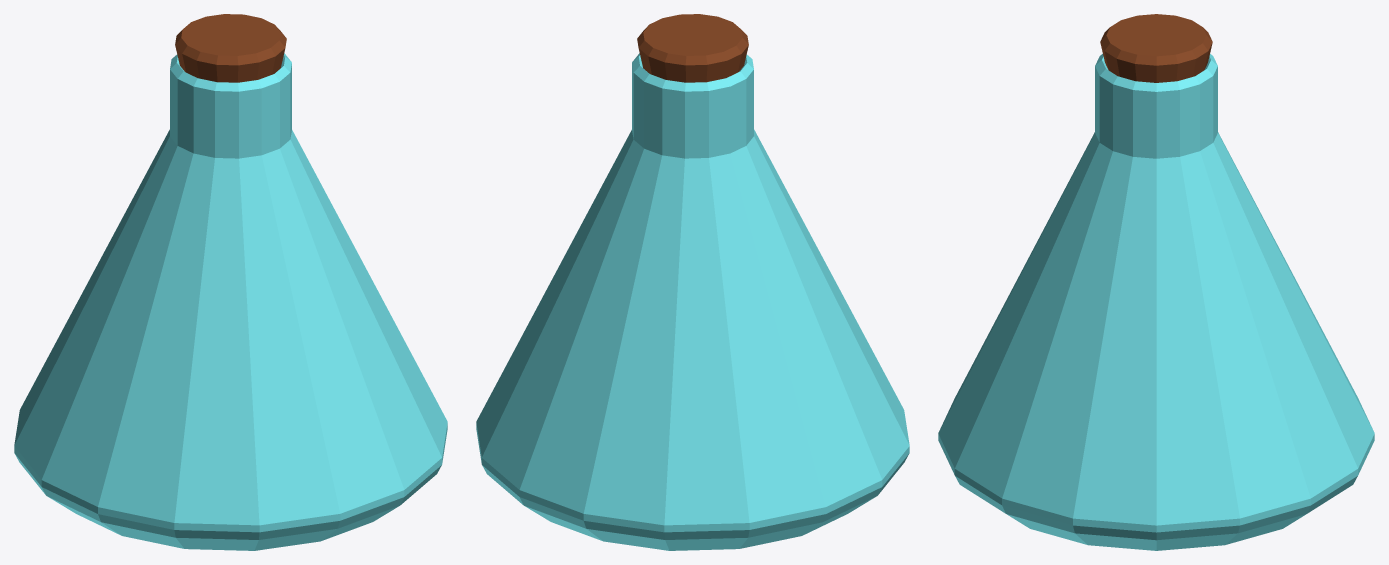
The model's file is conical flask.glb.
The picture shows the model from 3 angles, left to right: view 1: azimuth 30°, elevation 25°; view 2: azimuth 150°, elevation 25°; view 3: azimuth 270°, elevation 25°; orthographic projection.
Parts seen in each view (by area): view 1: Flask, Cork; view 2: Flask, Cork; view 3: Flask, Cork.
Part boxes in pixels (x1,y1,x2,y2): Flask: (14, 53, 447, 550); Cork: (175, 14, 286, 82); Flask: (476, 53, 909, 550); Cork: (637, 14, 748, 82); Flask: (938, 54, 1374, 550); Cork: (1100, 14, 1212, 82).
Bounding box in the file's own units: 5.72 × 6.42 × 5.72.
